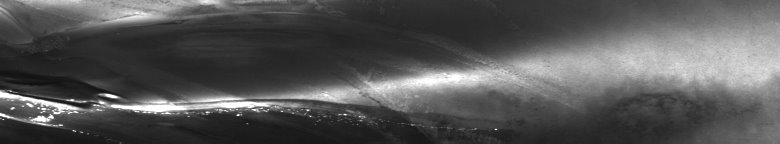ke: (4, 4, 498, 134)
